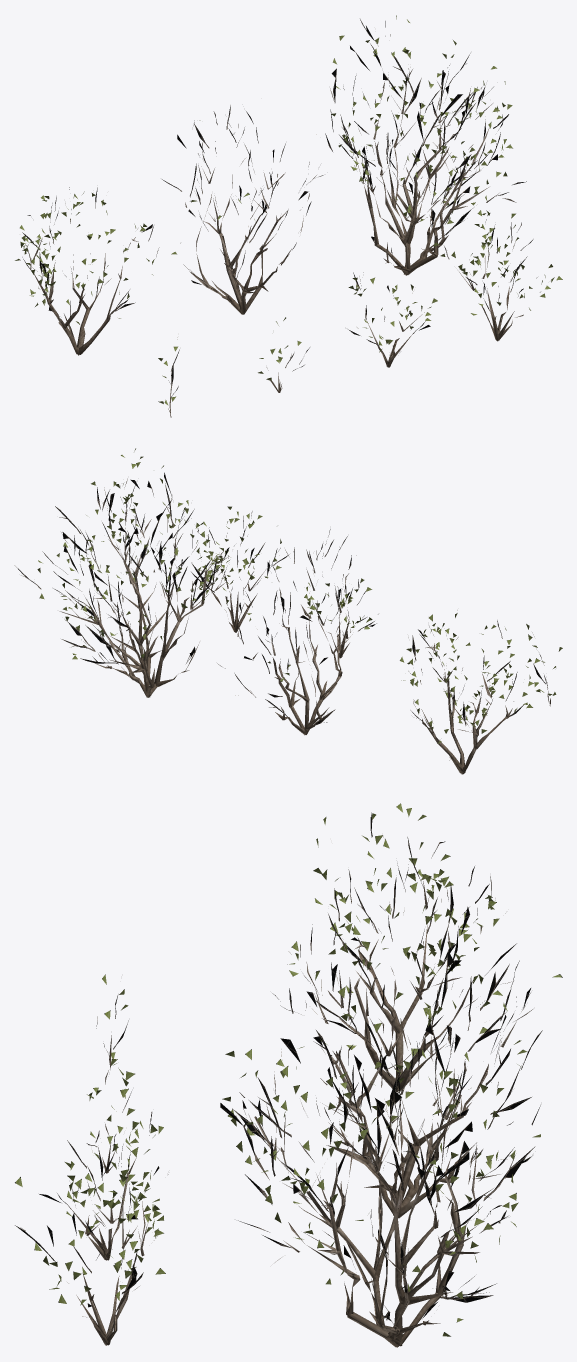
Rendered from m_searsia_lucida.432bde431b.glb.
The picture shows the model from 3 angles, top to bottom: view 1: azimuth 30°, elevation 25°; view 2: azimuth 150°, elevation 25°; view 3: azimuth 270°, elevation 25°; orthographic projection. The views are drawn at different scales.
Parts seen in each view (by area): view 1: searsia_lucida_a_LOD0; view 2: searsia_lucida_a_LOD0; view 3: searsia_lucida_a_LOD0.
Part boxes in pixels (x1,y1,x2,y2): searsia_lucida_a_LOD0: (15,15,562,417); searsia_lucida_a_LOD0: (14,448,562,774); searsia_lucida_a_LOD0: (15,803,562,1347).
Bounding box in the file's own units: 4.57 × 2.22 × 2.73.
2 materials, 2 textured.
